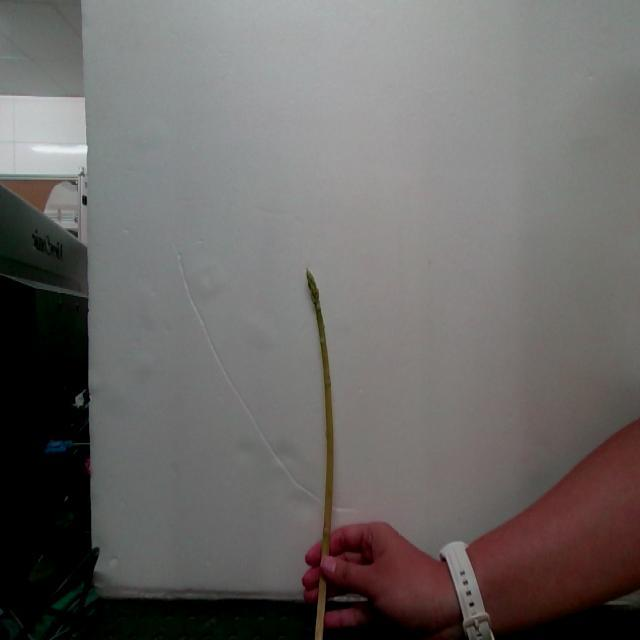aspargus: (306, 272, 334, 560)
